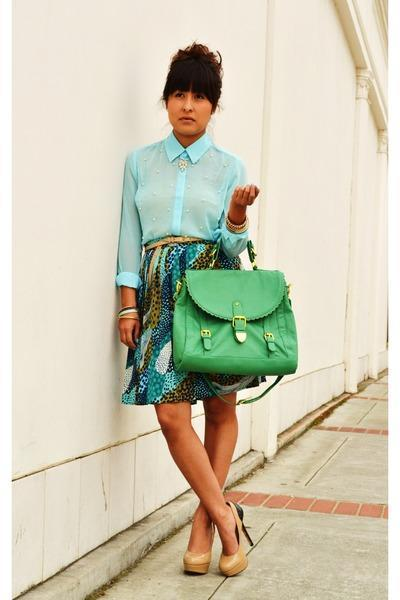bag: (166, 265, 297, 387)
shirt: (115, 132, 251, 287)
shoe: (179, 516, 251, 587)
skirt: (108, 236, 256, 411)
